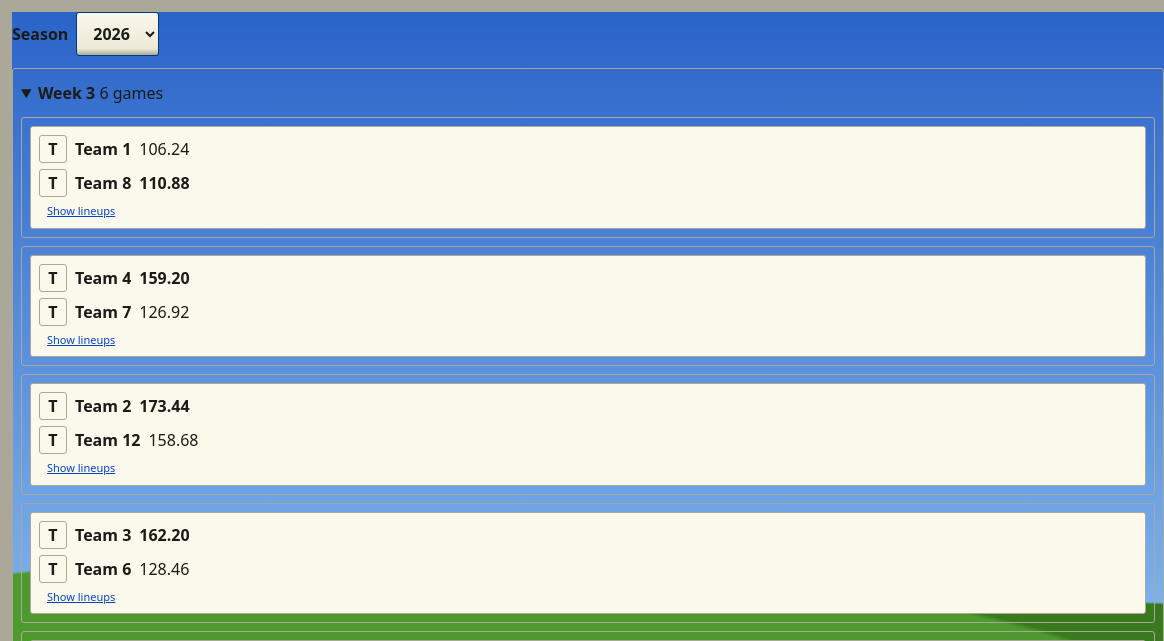
Test case: Matchup History › tags a past season's playoff and consolation games
Select "2025" in the dropdown labelled "Season": (118, 34) [76,12,159,56]
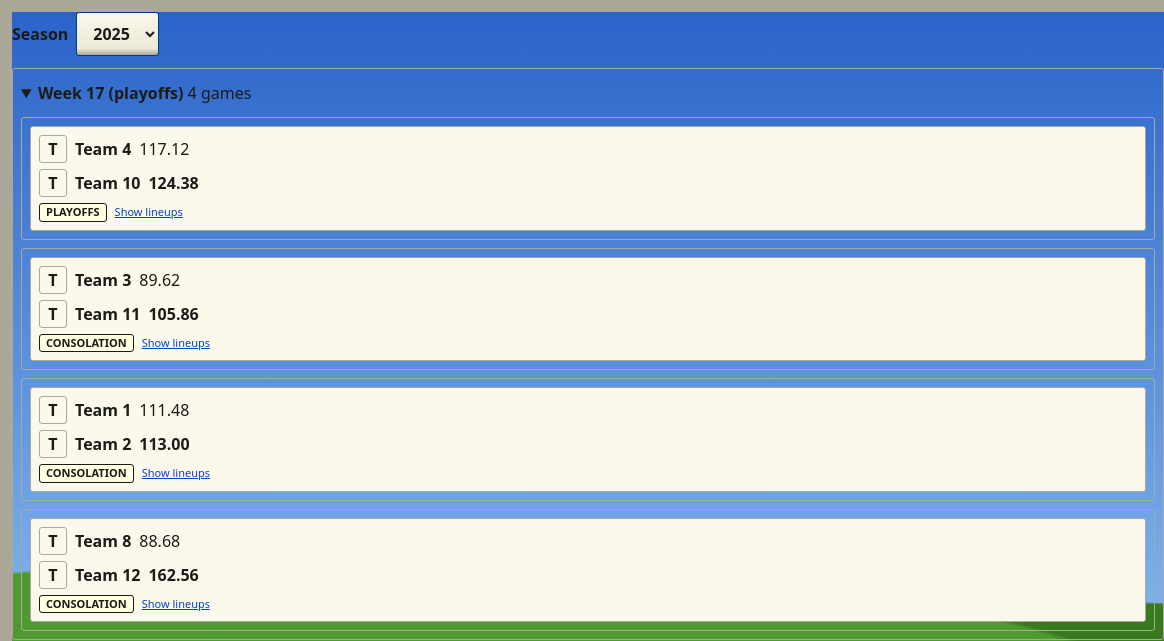
Result: the heading "Week 17 (playoffs) 4 games" is shown at [38,82,251,104]
Result: the button "T Team 4 117.12 T Team 10 124.38 Playoffs Show lineups" is shown at [30,126,1146,230]
